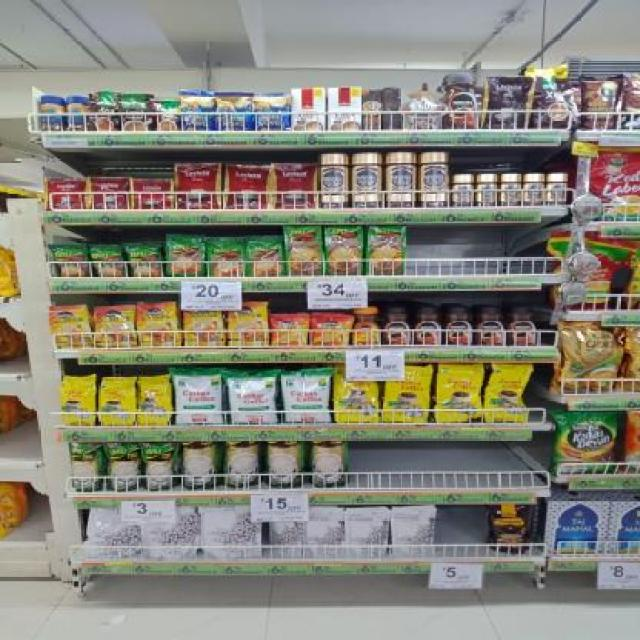Coffee: (443, 73, 479, 129), (317, 153, 348, 210), (137, 303, 178, 346), (95, 306, 136, 348), (50, 306, 91, 348), (230, 304, 268, 348), (353, 152, 382, 208), (420, 152, 448, 208), (387, 152, 416, 206), (184, 308, 224, 347), (445, 306, 472, 348), (413, 307, 441, 347), (382, 308, 410, 346), (273, 316, 307, 346), (314, 316, 348, 346), (478, 307, 504, 345), (353, 308, 379, 346), (511, 307, 535, 345), (524, 173, 544, 205), (453, 175, 473, 207), (478, 175, 498, 207), (548, 173, 567, 205), (502, 173, 520, 205)
